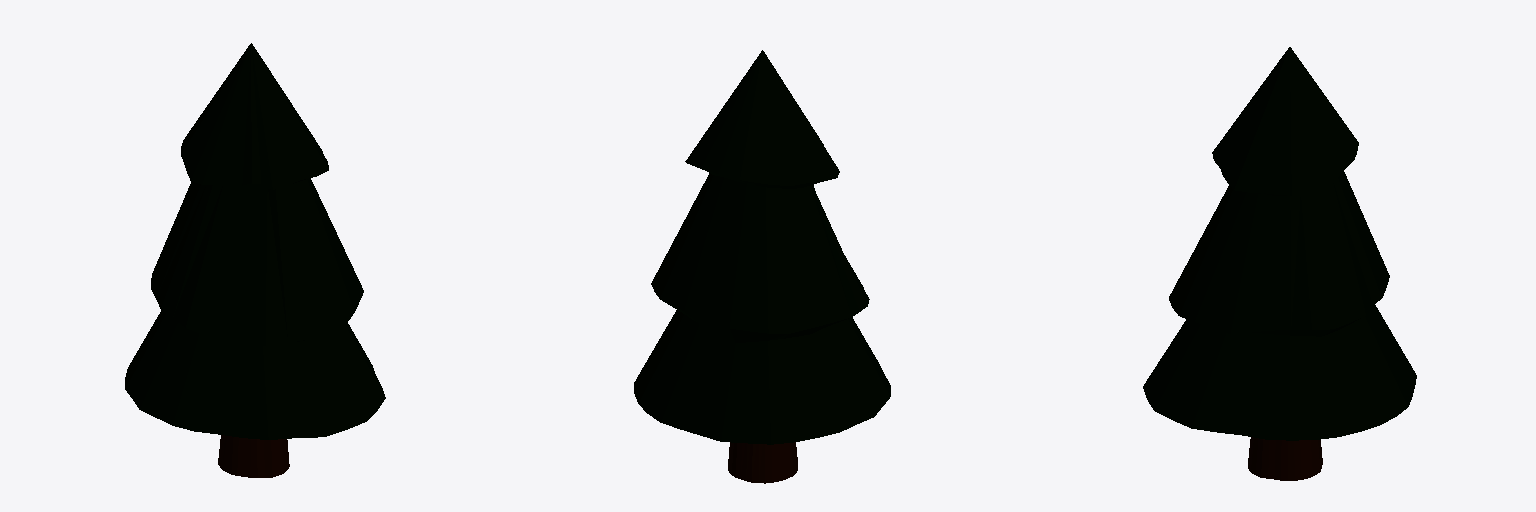
File: tree.obj
The picture shows the model from 3 angles: view 1: azimuth 30°, elevation 25°; view 2: azimuth 150°, elevation 25°; view 3: azimuth 270°, elevation 25°; orthographic projection.
Parts seen in each view (by area): view 1: Cone; view 2: Cone; view 3: Cone.
Boxes of the visible parts, <box> form: Cone: <box>125,43,385,477</box>; Cone: <box>634,50,890,483</box>; Cone: <box>1143,47,1416,480</box>.
Size of the model in its own units: 2.06 by 3.7 by 2.19.